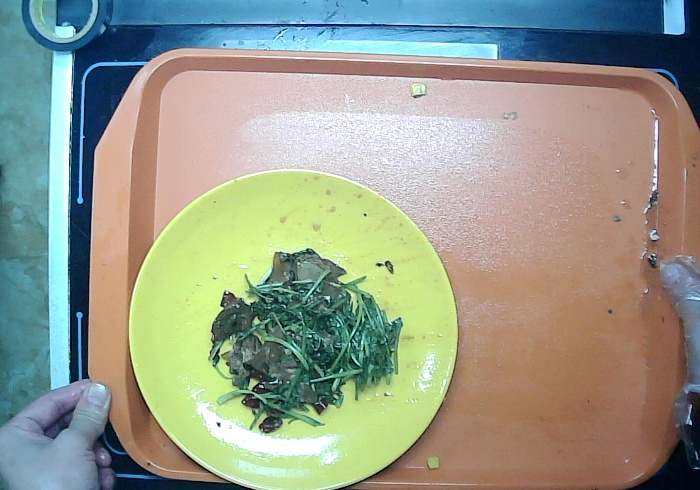HZYJPL-Huang_Se_Yuan_Pan: (123, 163, 459, 490)
